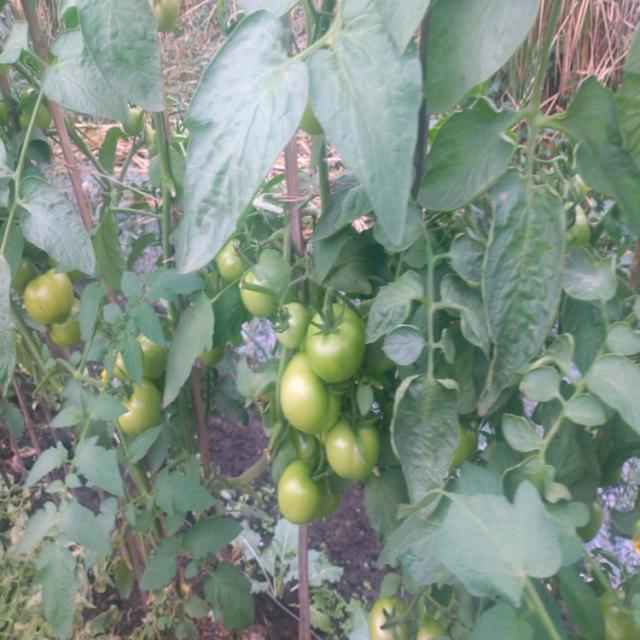tomato: (273, 359, 354, 434), (297, 305, 370, 377), (278, 457, 347, 523), (320, 412, 381, 479), (369, 590, 437, 640), (111, 382, 173, 429), (21, 271, 81, 318), (118, 328, 175, 377), (238, 271, 290, 322), (203, 242, 262, 284), (273, 302, 318, 346), (443, 423, 481, 473), (17, 95, 58, 135), (152, 1, 194, 36), (43, 314, 89, 344), (297, 106, 330, 138), (195, 343, 232, 369), (7, 258, 36, 289), (120, 105, 147, 134)
